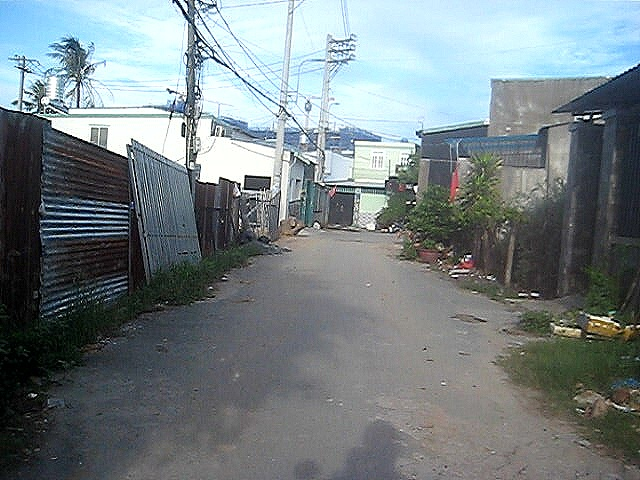hole: (449, 313, 487, 324)
